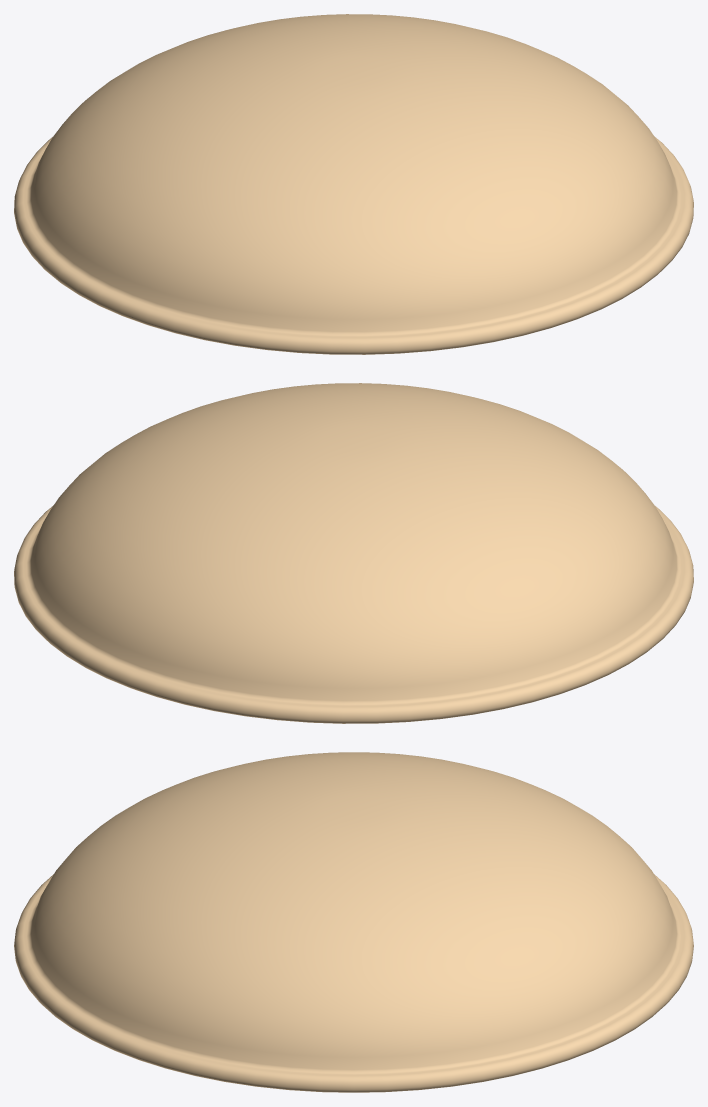
The model's file is HookMe.fbx.
The picture shows the model from 3 angles, top to bottom: view 1: azimuth 30°, elevation 25°; view 2: azimuth 150°, elevation 25°; view 3: azimuth 270°, elevation 25°; orthographic projection.
Parts seen in each view (by area): view 1: shell2; view 2: shell2; view 3: shell2.
Part boxes in pixels (x1,y1,x2,y2): shell2: (14,14,693,354); shell2: (14,383,693,723); shell2: (14,752,693,1092).
Size of the model in its own units: 5519 by 1873 by 5519.
